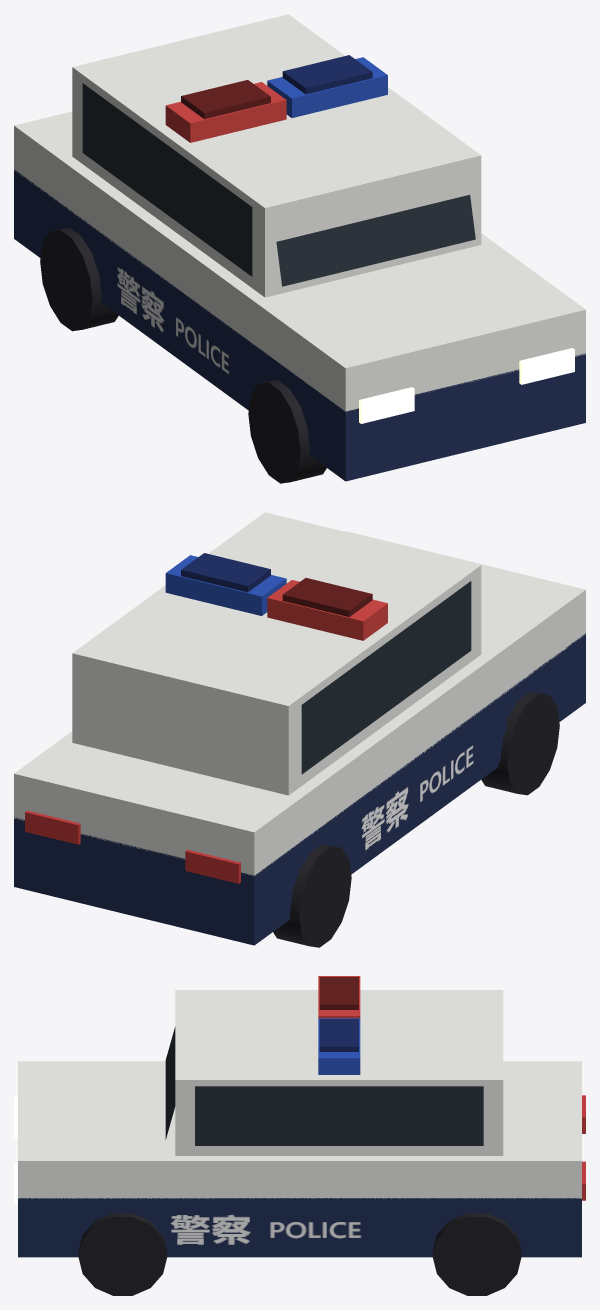
Rendered from police.glb.
3 renders of one model, top to bottom at view 1: azimuth 30°, elevation 25°; view 2: azimuth 150°, elevation 25°; view 3: azimuth 270°, elevation 25°, orthographic. The views are drawn at different scales.
Visible parts, largest first — view 1: surface_478_prop_0_0, surface_478_prop_0_-1, surface_477_prop_0_0, surface_479_prop_-1_-1, surface_479_prop_0_0, surface_481_prop_-1_0, surface_220_prop_-1_0, surface_220_prop_-1_-1, surface_186_prop_-1_-1, surface_480_prop_0_-1, surface_484_prop_0_-1, surface_483_prop_-1_-1 (+2 smaller); view 2: surface_478_prop_0_-1, surface_478_prop_0_0, surface_477_prop_0_0, surface_479_prop_-1_-1, surface_481_prop_-1_0, surface_220_prop_-1_-1, surface_220_prop_-1_0, surface_186_prop_-1_-1, surface_480_prop_0_-1, surface_483_prop_-1_-1, surface_484_prop_0_-1, surface_222_prop_-1_-1 (+1 smaller); view 3: surface_478_prop_0_0, surface_478_prop_0_-1, surface_479_prop_0_-1, surface_477_prop_0_0, surface_482_prop_0_0, surface_220_prop_0_-1, surface_220_prop_0_0, surface_483_prop_-1_-1, surface_484_prop_0_-1, surface_480_prop_0_-1, surface_479_prop_0_0, surface_186_prop_-1_-1.
Boxes of the visible parts, x1,y1,x2,y2 form: surface_478_prop_0_0: (14,111,585,411); surface_478_prop_0_-1: (72,14,481,297); surface_477_prop_0_0: (14,170,585,481); surface_479_prop_-1_-1: (82,83,252,276); surface_479_prop_0_0: (276,194,475,286); surface_481_prop_-1_0: (108,246,262,406); surface_220_prop_-1_0: (248,380,326,483); surface_220_prop_-1_-1: (40,228,118,331); surface_186_prop_-1_-1: (165,82,286,142); surface_480_prop_0_-1: (267,57,387,117); surface_484_prop_0_-1: (282,55,372,94); surface_483_prop_-1_-1: (181,80,270,119); surface_478_prop_0_-1: (72,512,481,795); surface_478_prop_0_0: (14,531,585,876); surface_477_prop_0_0: (14,633,585,945); surface_479_prop_-1_-1: (301,581,471,774); surface_481_prop_-1_0: (352,698,506,869); surface_220_prop_-1_-1: (273,844,351,947); surface_220_prop_-1_0: (481,692,559,795); surface_186_prop_-1_-1: (267,580,387,640); surface_480_prop_0_-1: (165,555,286,615); surface_483_prop_-1_-1: (282,578,372,616); surface_484_prop_0_-1: (181,553,270,592); surface_222_prop_-1_-1: (185,849,240,883); surface_478_prop_0_0: (18,1061,581,1198); surface_478_prop_0_-1: (175,990,503,1155); surface_479_prop_0_-1: (195,1086,483,1145); surface_477_prop_0_0: (18,1198,581,1257); surface_482_prop_0_0: (155,1203,417,1253); surface_220_prop_0_-1: (432,1213,521,1295); surface_220_prop_0_0: (78,1213,167,1295); surface_483_prop_-1_-1: (319,977,358,1009); surface_484_prop_0_-1: (319,1019,358,1051); surface_480_prop_0_-1: (318,1018,360,1074); surface_479_prop_0_0: (165,1027,175,1139); surface_186_prop_-1_-1: (318,976,360,1018).
Bounding box in the file's own units: 1.94 × 1.94 × 4.36.
12 materials, 2 textured.
